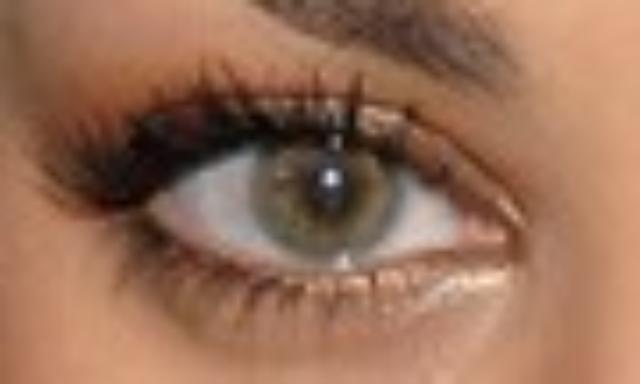eye: (252, 127, 402, 264)
